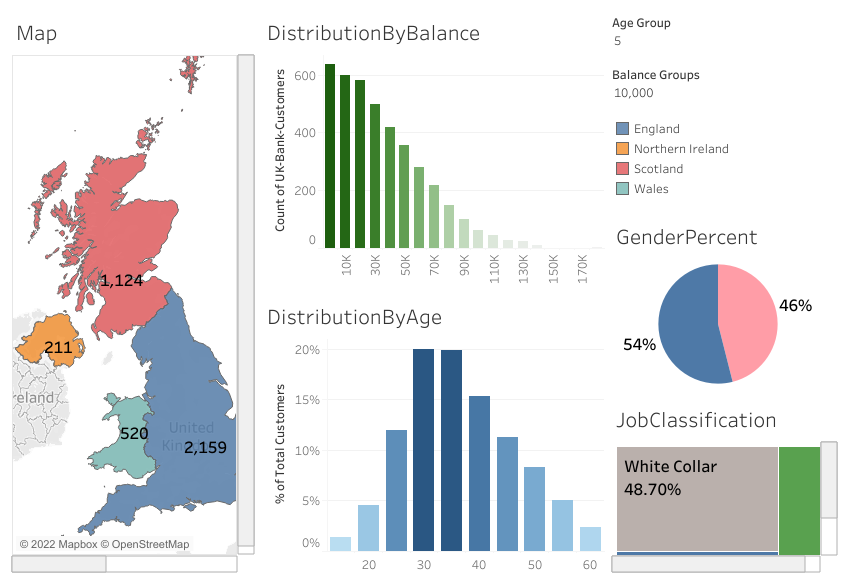

What the dashboard file says about the page in this screenshot:
{"tool":"tableau","page":{"name":"SegmentationDashboard","canvas":[1000,1000],"units":"permille","ordinal":0},"visuals":[{"type":"worksheet","title":"Map","mark":"Multipolygon","box":[9.4,12.6,295.3,974.7]},{"type":"worksheet","title":"DistributionByBalance","mark":"Automatic","rows":["UK-Bank-Customers.csv_6E494B7085574C5D8E399F0EBE5FE18E"],"cols":["Balance (bin)"],"box":[304.7,12.6,410.6,486.6]},{"type":"parameter","param":"[Parameters].[Parameter 2]","box":[715.3,12.6,275.3,82.2]},{"type":"parameter","param":"[Parameters].[Parameter 1]","box":[715.3,94.8,275.3,85.3]},{"type":"legend","title":"Map","param":"[federated.00whb1e0tag0ru164emg51pvt9jq].[none:Region:nk]","box":[715.3,180.1,275.3,154.8]},{"type":"worksheet","title":"GenderPercent","mark":"Pie","box":[715.3,334.9,275.3,298.6]},{"type":"worksheet","title":"DistributionByAge","mark":"Automatic","rows":["UK-Bank-Customers.csv_6E494B7085574C5D8E399F0EBE5FE18E"],"cols":["Age (bin)"],"box":[304.7,499.2,410.6,488.2]},{"type":"worksheet","title":"JobClassification","mark":"Automatic","box":[715.3,633.5,275.3,353.9]}]}

Visuals, with their boxes on the dashboard's canvas, which has no fixed pixel size, in thousandths of its width and height (x1, y1, x2, y2). These are canvas units, not pixel positions in the 849x584 screenshot, which may show the page scaled, cropped or inside an application window:
"Map" worksheet (Multipolygon marks): (x1=9, y1=13, x2=305, y2=987)
"DistributionByBalance" worksheet: (x1=305, y1=13, x2=715, y2=499)
parameter: (x1=715, y1=13, x2=991, y2=95)
parameter: (x1=715, y1=95, x2=991, y2=180)
"Map" legend: (x1=715, y1=180, x2=991, y2=335)
"GenderPercent" worksheet (Pie marks): (x1=715, y1=335, x2=991, y2=634)
"DistributionByAge" worksheet: (x1=305, y1=499, x2=715, y2=987)
"JobClassification" worksheet: (x1=715, y1=634, x2=991, y2=987)
